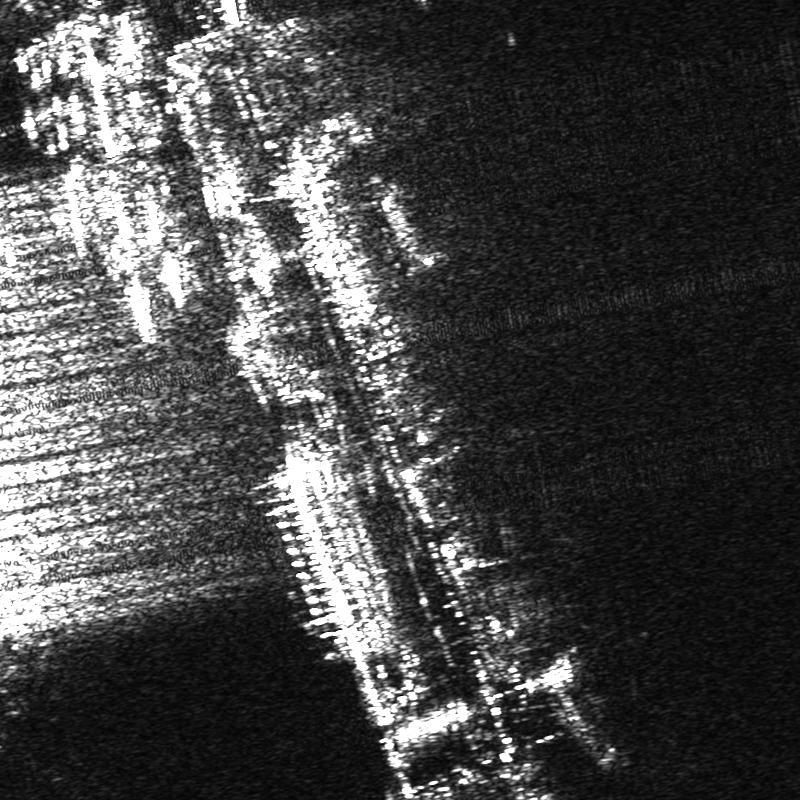ship: (284, 442, 425, 722), (269, 140, 377, 328), (47, 19, 114, 157), (98, 11, 163, 152), (14, 37, 70, 154), (90, 168, 140, 275), (62, 164, 99, 257), (381, 195, 419, 252), (125, 275, 157, 342), (157, 250, 186, 309), (135, 185, 162, 247)
